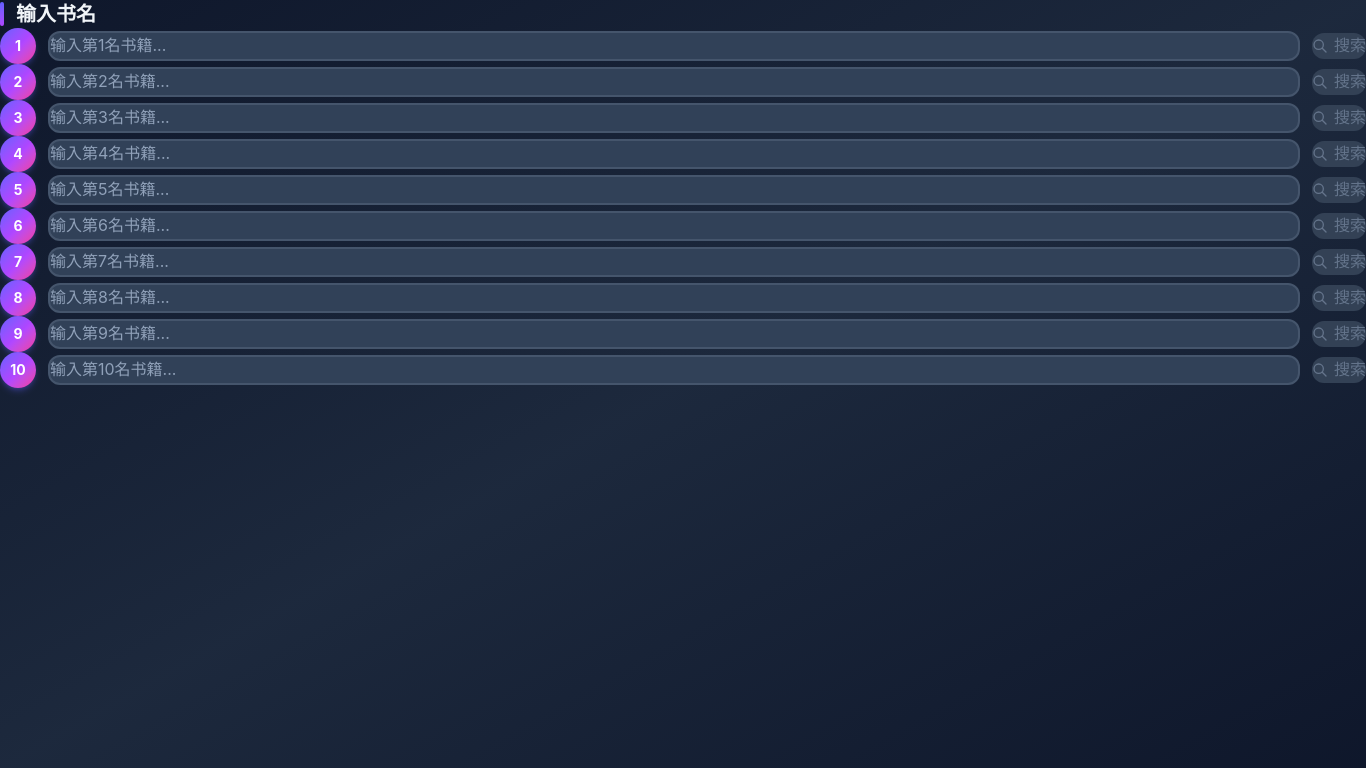
Test case: BookInputList › 应该在有输入时启用搜索按钮
The image size is (1366, 768).
Type "三体" into the field with test id "book-input-0" at (674, 46), box [48,31,1300,61]
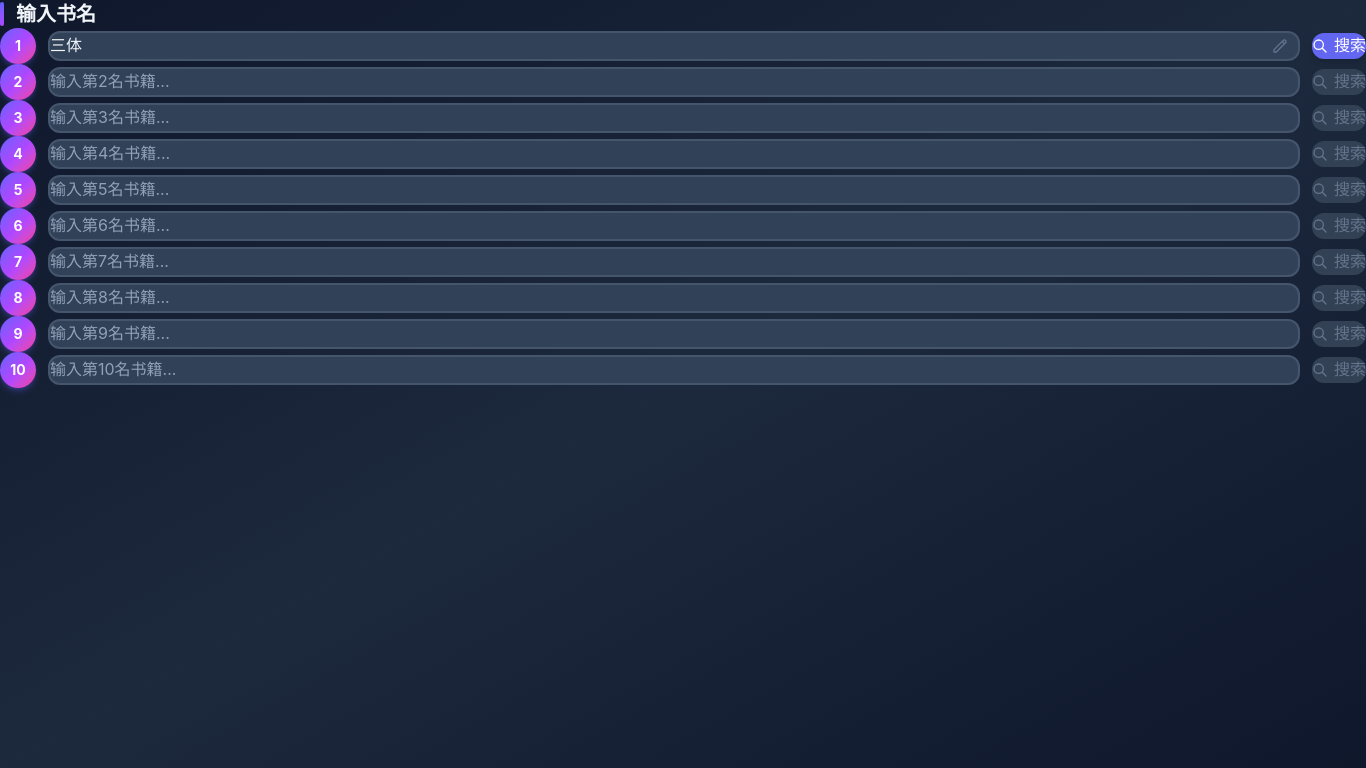
Now the button with test id "search-button-0" is enabled, box [1312,33,1365,59]
